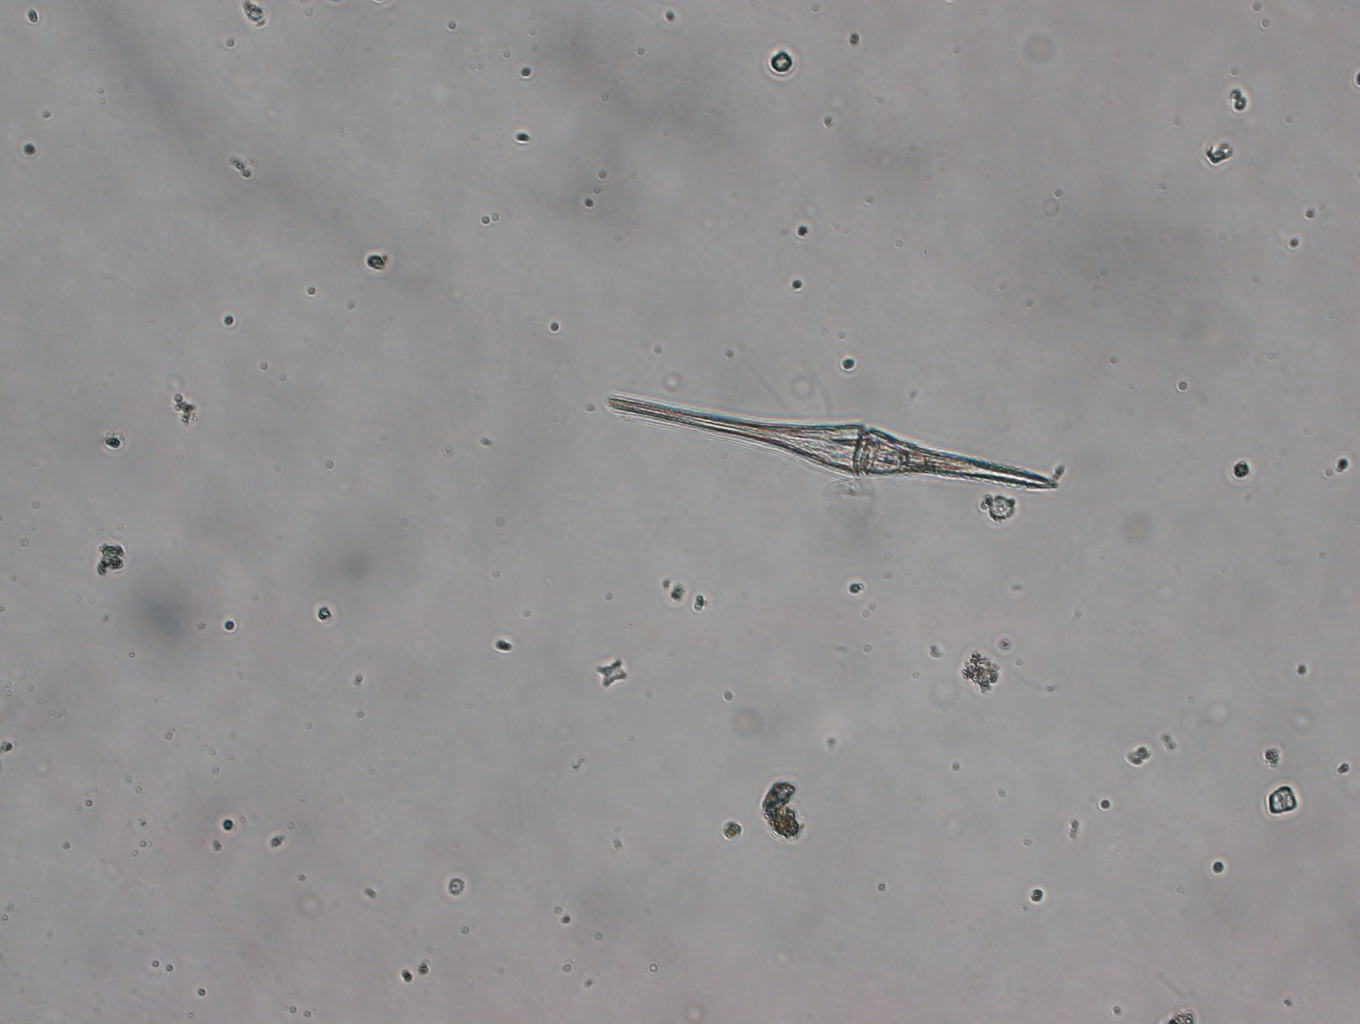ceratium furca: (595, 384, 1063, 498)
